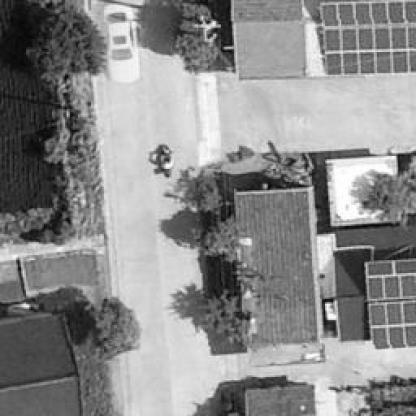solar-pv-panel: (325, 24, 416, 75), (320, 0, 416, 26), (369, 302, 416, 348), (367, 259, 416, 300)
